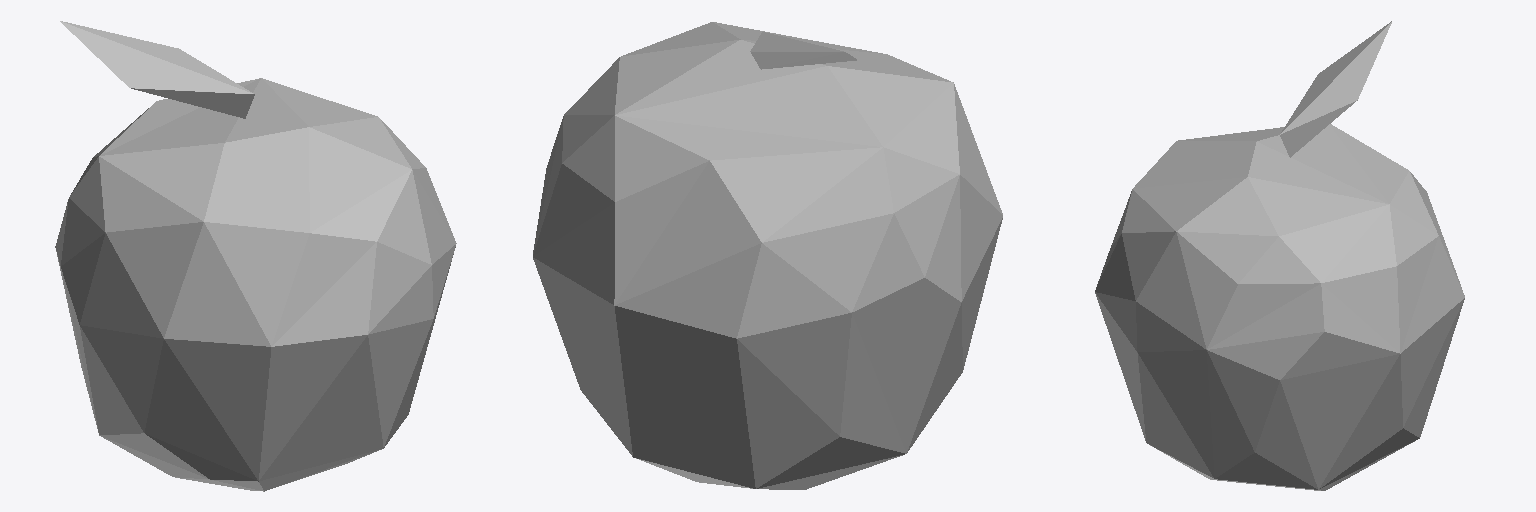
robot.urdf — root:
<robot name="root">
  <link name="link_coacd_convex_piece_0">
    <inertial>
      <mass value="0.1"/>
      <origin xyz="0 0 0" rpy="0 0 0"/>
      <inertia ixx="2.39E-03" ixy="2.38E-04" ixz="7.48E-04" iyy="2.49E-03" iyz="-6.27E-04" izz="5.33E-04"/>
    </inertial>
    <visual>
      <origin xyz="0 0 0" rpy="0 0 0"/>
      <geometry>
        <mesh filename="decomposed_new1.obj" scale="1.0000E+00 1.0000E+00 1.0000E+00"/>
      </geometry>
      <material name="">
        <color rgba="7.50E-01 7.50E-01 7.50E-01 1"/>
      </material>
    </visual>
    <collision>
      <origin xyz="0 0 0" rpy="0 0 0"/>
      <geometry>
        <mesh filename="decomposed_new1.obj" scale="1.0000E+00 1.0000E+00 1.0000E+00"/>
      </geometry>
    </collision>
  </link>
</robot>

--- Render facts (derived) ---
Views: 3 orthographic renders of the robot side by side, from view 1: azimuth 30°, elevation 25°; view 2: azimuth 150°, elevation 25°; view 3: azimuth 270°, elevation 25°.
Model root with 1 links and 0 joints (none), rooted at link_coacd_convex_piece_0, posed all joints at 0.
Links seen in each view (by area): view 1: link_coacd_convex_piece_0; view 2: link_coacd_convex_piece_0; view 3: link_coacd_convex_piece_0.
Link boxes in pixels (x1=…): link_coacd_convex_piece_0: x1=55, y1=21, x2=456, y2=491; link_coacd_convex_piece_0: x1=533, y1=22, x2=1002, y2=489; link_coacd_convex_piece_0: x1=1095, y1=21, x2=1464, y2=490.
Bounding box of the posed robot: 0.1102 × 0.1147 × 0.1359 m (x, y, z).
Meshes: 1 distinct files referenced, 1 mesh visuals loaded (1 OBJ).
